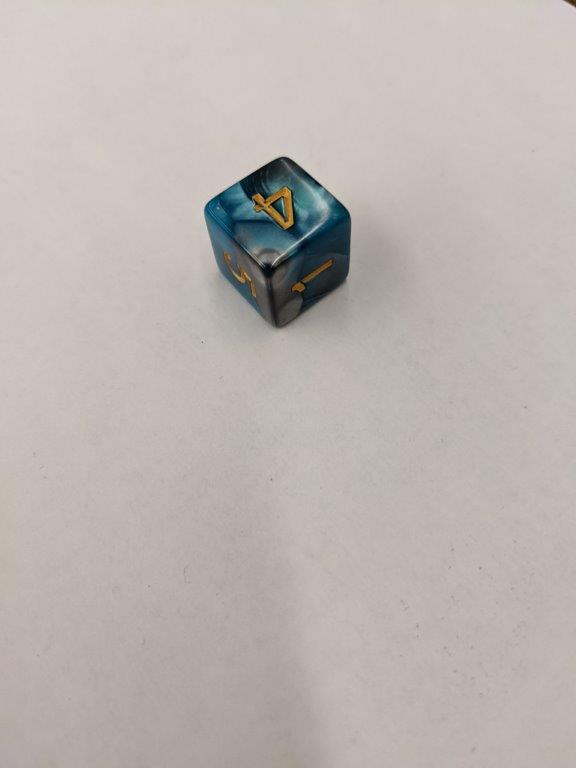d6-4: (202, 154, 352, 328)
